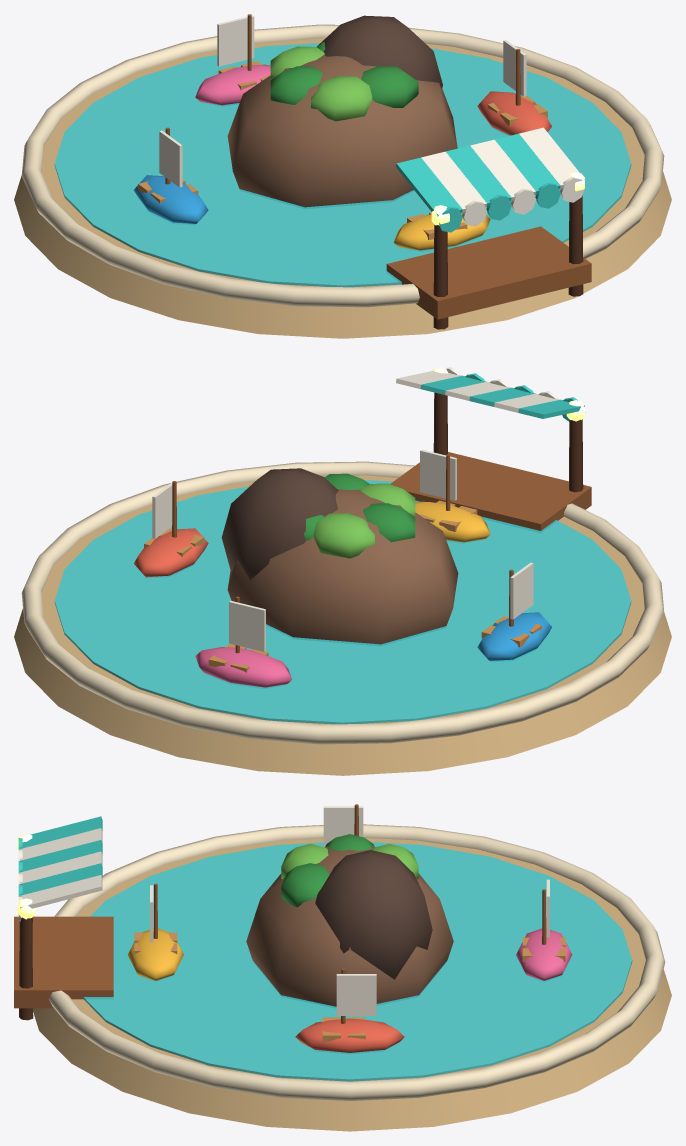
The model's file is lagoon-boats.glb.
3 renders of one model, top to bottom at view 1: azimuth 30°, elevation 25°; view 2: azimuth 150°, elevation 25°; view 3: azimuth 270°, elevation 25°, orthographic. The views are drawn at different scales.
Parts seen in each view (by area): view 1: Mesh_water, Mesh_sandStone, Mesh_cliffRock, Mesh_cream, Mesh_wood (×2), Mesh_warmWhite (×2), Mesh_turquoise, Mesh_cliffDark, Mesh_leaf, Mesh_leafLight, Mesh_darkWood, Mesh_skyBlue (+5 smaller); view 2: Mesh_water, Mesh_sandStone, Mesh_cream, Mesh_cliffRock, Mesh_wood (×2), Mesh_cliffDark, Mesh_warmWhite (×2), Mesh_leafLight, Mesh_flamingo, Mesh_leaf, Mesh_turquoise, Mesh_coral (+4 smaller); view 3: Mesh_water, Mesh_sandStone, Mesh_cream, Mesh_cliffRock, Mesh_cliffDark, Mesh_wood (×2), Mesh_warmWhite (×2), Mesh_turquoise, Mesh_coral, Mesh_leaf, Mesh_mango, Mesh_flamingo (+3 smaller).
Part boxes in pixels (x1,y1,x2,y2): Mesh_water: (54,43,631,287); Mesh_sandStone: (14,38,671,338); Mesh_cliffRock: (227,54,457,207); Mesh_cream: (21,24,664,307); Mesh_wood (×2): (165,14,591,319); Mesh_warmWhite (×2): (159,15,585,226); Mesh_turquoise: (396,133,560,232); Mesh_cliffDark: (318,15,442,88); Mesh_leaf: (270,41,418,107); Mesh_leafLight: (270,46,372,121); Mesh_darkWood: (433,195,583,329); Mesh_skyBlue: (134,175,208,223); Mesh_water: (54,480,631,724); Mesh_sandStone: (14,475,671,775); Mesh_cream: (21,461,664,744); Mesh_cliffRock: (227,489,458,644); Mesh_wood (×2): (172,452,591,653); Mesh_cliffDark: (221,468,338,580); Mesh_warmWhite (×2): (152,367,559,651); Mesh_leafLight: (313,483,415,558); Mesh_flamingo: (195,647,291,687); Mesh_leaf: (304,473,415,542); Mesh_turquoise: (420,373,585,421); Mesh_coral: (134,528,208,577); Mesh_water: (83,842,632,1081); Mesh_sandStone: (33,838,671,1131); Mesh_cream: (48,824,665,1100); Mesh_cliffRock: (246,846,453,1006); Mesh_cliffDark: (315,850,432,979); Mesh_wood (×2): (14,804,546,1023); Mesh_warmWhite (×2): (18,806,549,1015); Mesh_turquoise: (18,816,102,896); Mesh_coral: (295,1018,404,1052); Mesh_leaf: (281,834,374,907); Mesh_mango: (128,928,183,980); Mesh_flamingo: (516,928,572,980).
Bounding box in the file's own units: 7.76 × 2.52 × 7.93.
